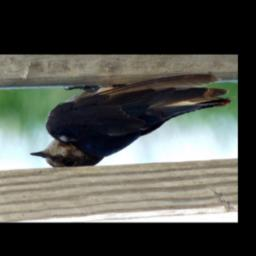Swallow: (29, 73, 232, 168)
